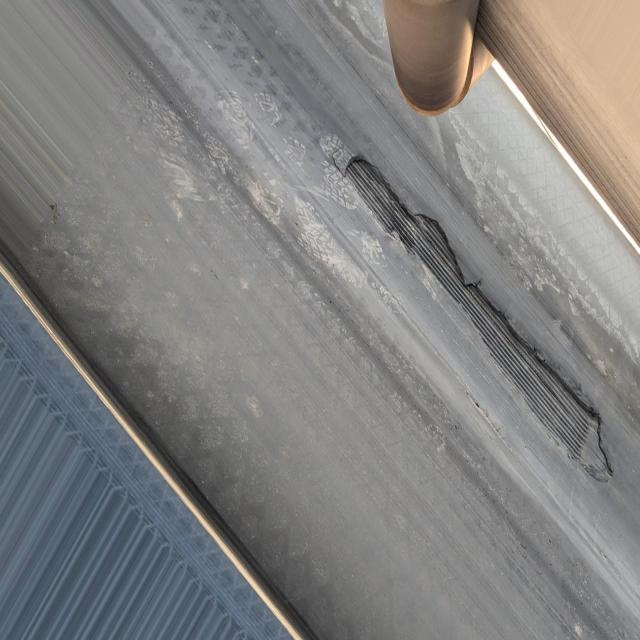Roller: (382, 3, 496, 111)
Tear: (338, 141, 617, 500)
